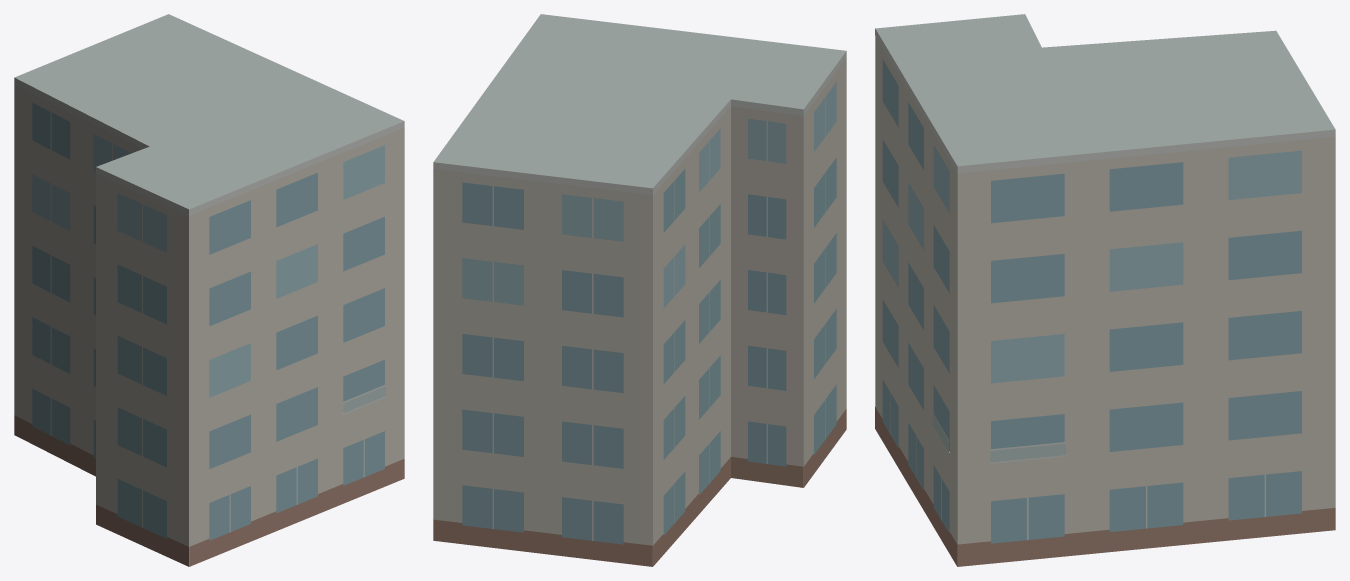
The model's file is survey-upis-32589410.glb.
3 views of the same model, side by side, from view 1: azimuth 30°, elevation 25°; view 2: azimuth 150°, elevation 25°; view 3: azimuth 270°, elevation 25° (orthographic). The views are drawn at different scales.
Visible parts, largest first — view 1: survey-upis-32589410.tmp; view 2: survey-upis-32589410.tmp; view 3: survey-upis-32589410.tmp.
Part boxes in pixels (x1=…): survey-upis-32589410.tmp: x1=14, y1=14, x2=404, y2=566; survey-upis-32589410.tmp: x1=433, y1=14, x2=846, y2=566; survey-upis-32589410.tmp: x1=875, y1=14, x2=1335, y2=566.
Bounding box in the file's own units: 11.18 × 13.7 × 14.28.
